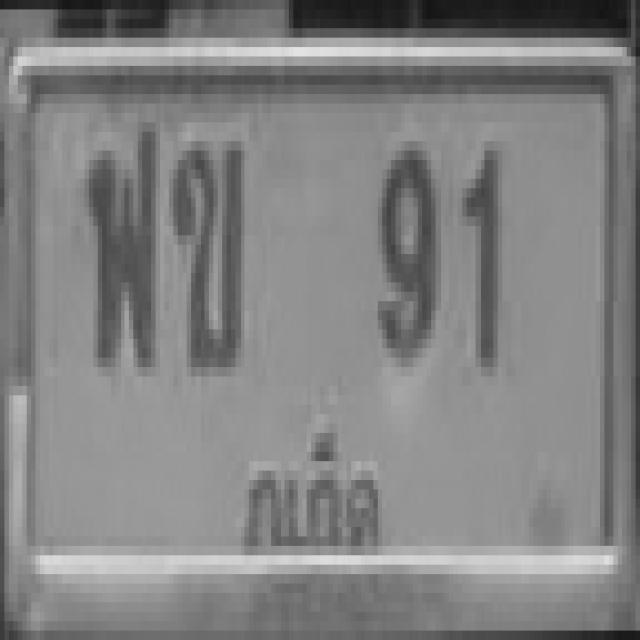1: (461, 121, 519, 442)
11KhorKhai: (170, 117, 263, 466)
40ForFun: (78, 113, 170, 437)
9: (360, 102, 454, 402)
Phuket: (228, 382, 392, 579)
